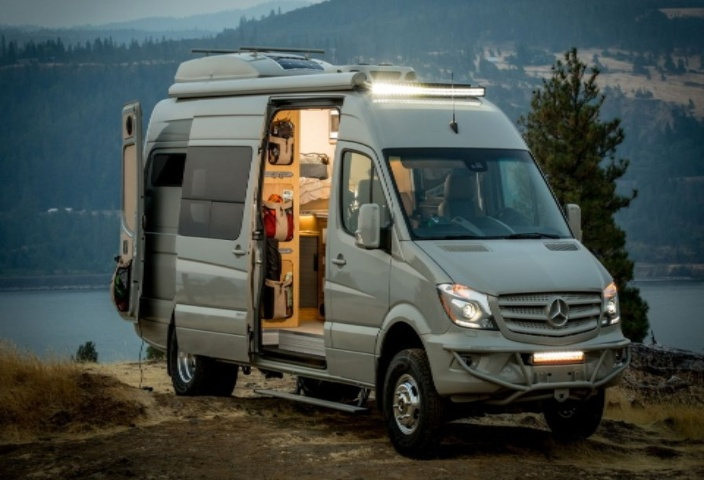van: (89, 44, 646, 454)
